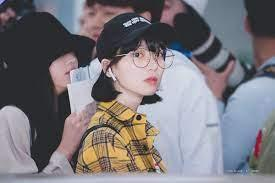earphone: (105, 64, 118, 81)
